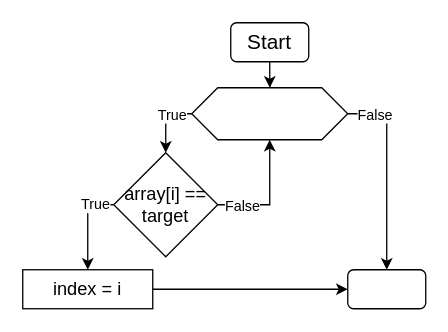
The diagram is 448 pixels wide and 332 high, and some of its shapes have lost their labels. Here are the shapes that lost their labels. From the top down, the centre of each, then its label:
At (269,113): "i = 0; i < n; i++".
At (386,288): "End".
